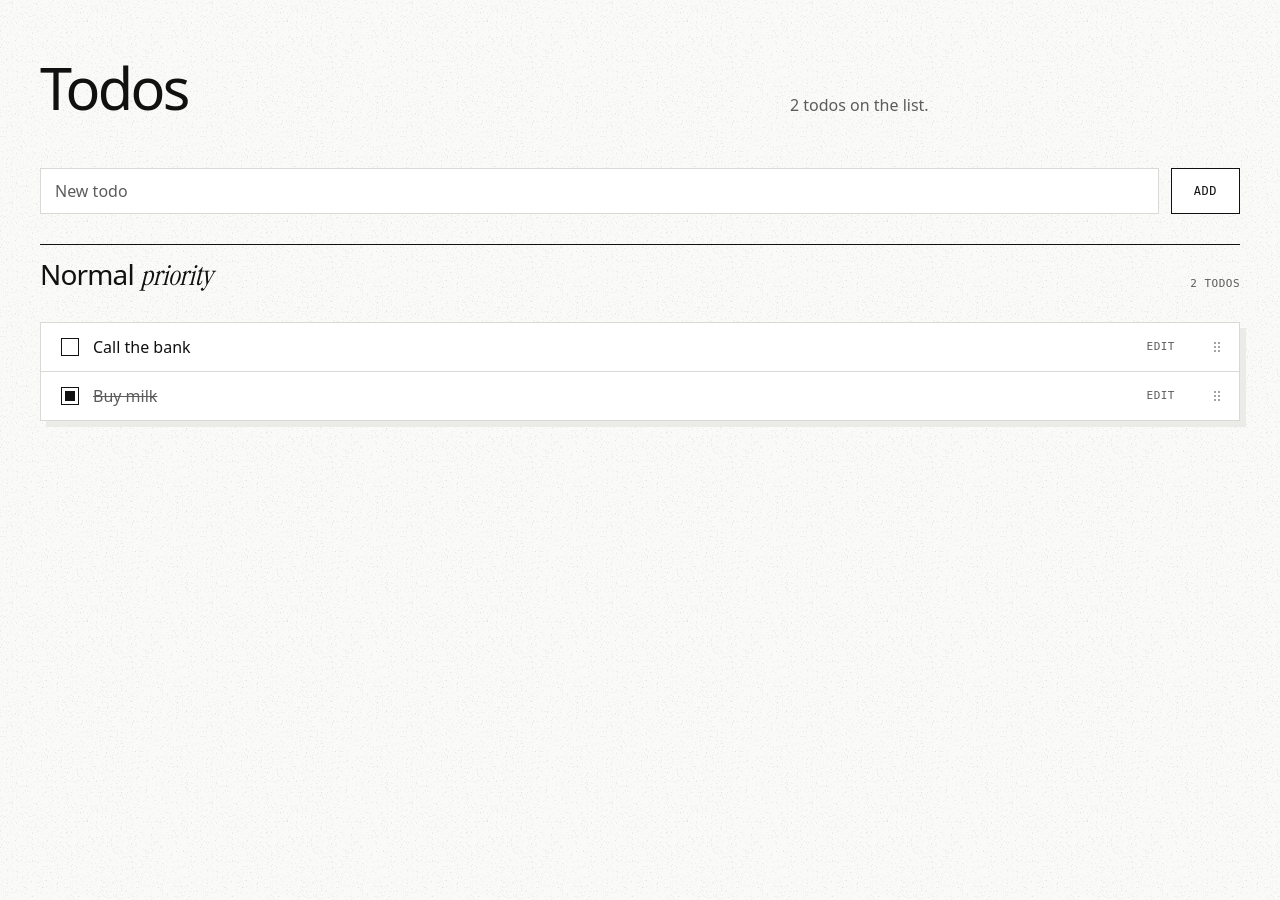
renames a todo in its row, then gives the focus back to its Edit button
// A click that the browser dispatches at once: the field has the focus before the click returns.
Click the button with aria-label "Edit Call the bank".
click(1161, 348)  # box [1126, 324, 1195, 372]
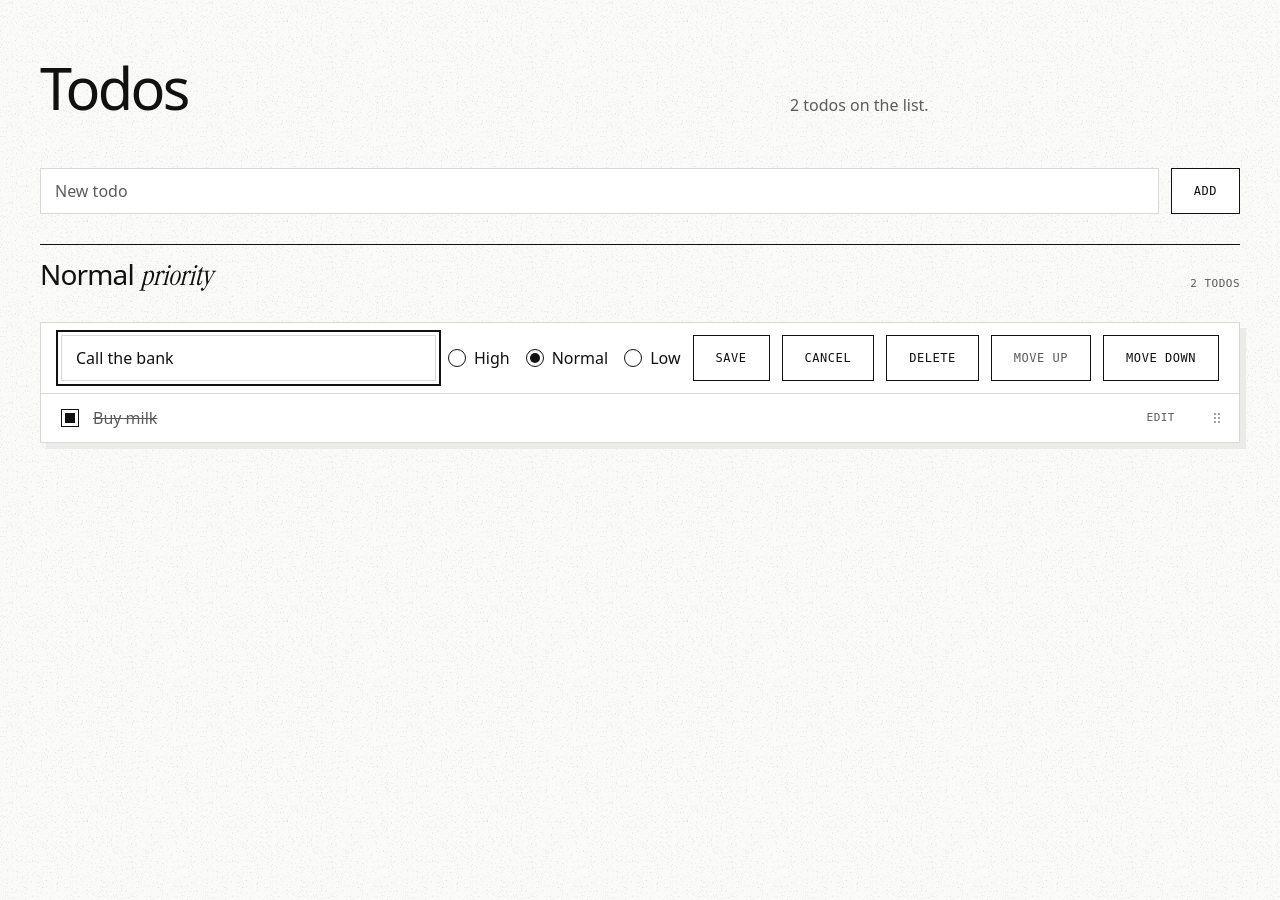
Replace the text in the field named "Title" with "Call the bank today" at (248, 358), box [61, 336, 436, 382]
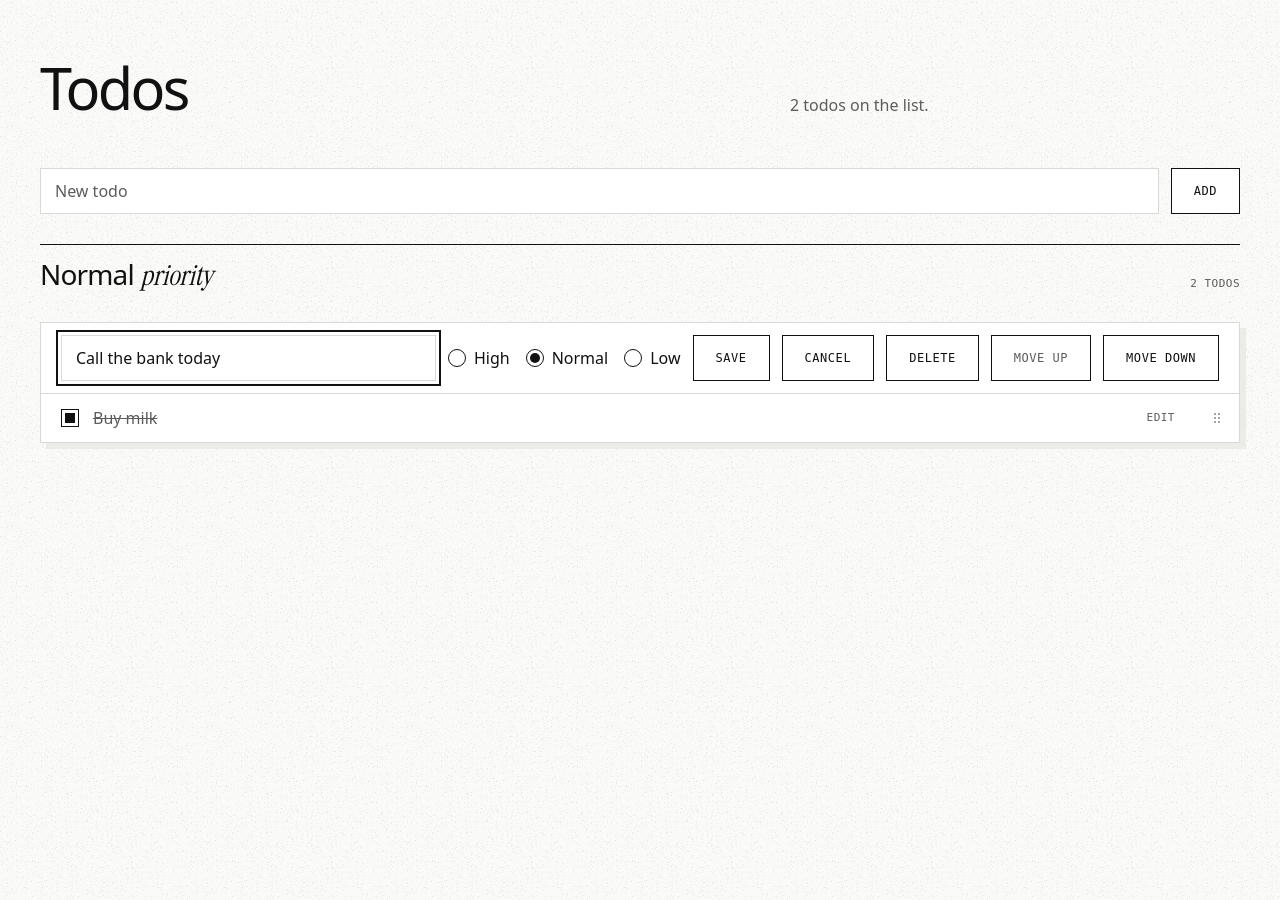
Click the button "Save".
click(731, 358)  # box [692, 336, 770, 382]
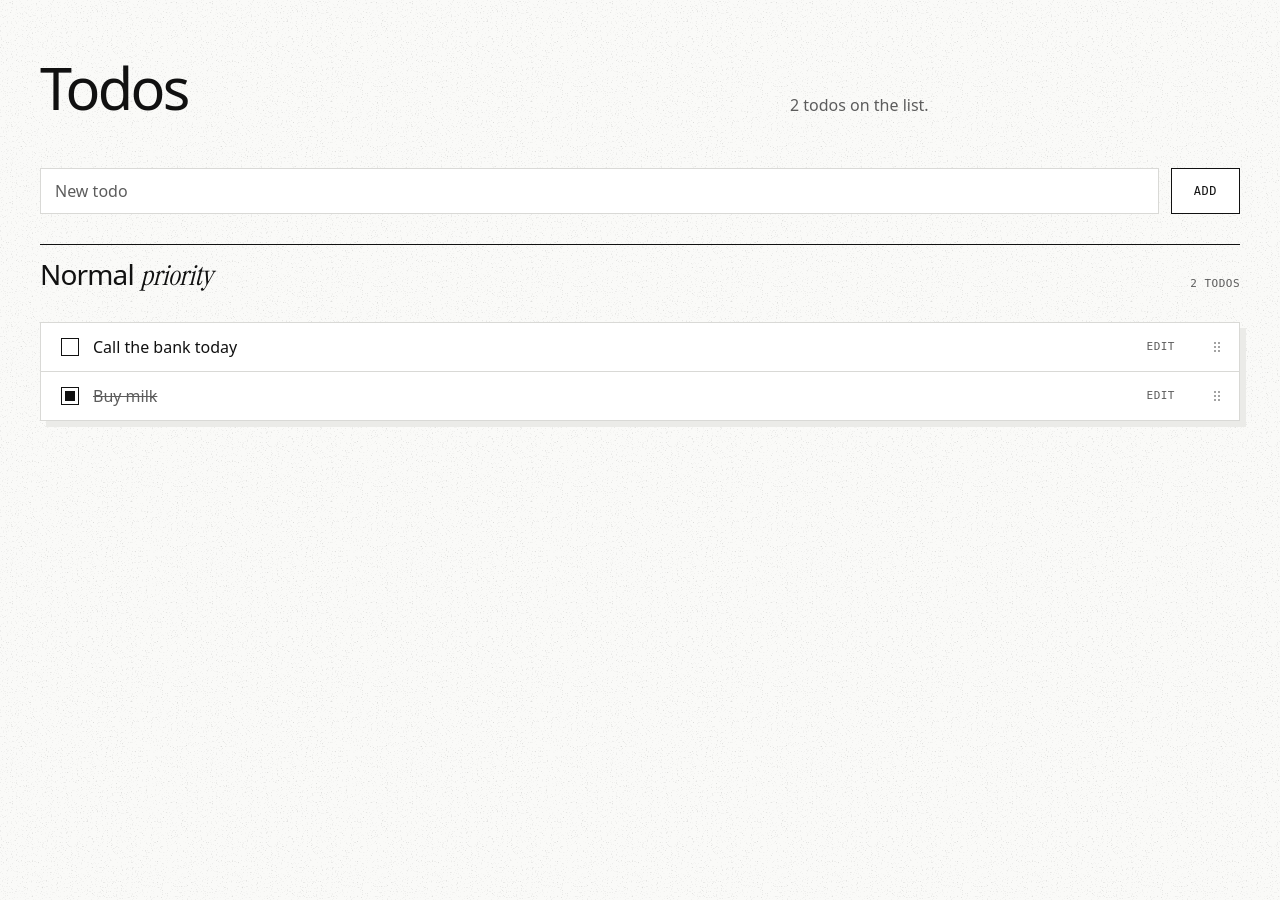
Expected: the checkbox labelled "Call the bank today" is not checked, [61, 338, 79, 356]
